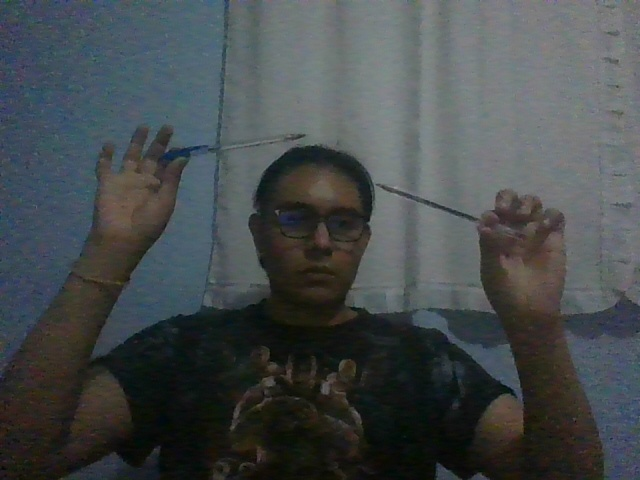pluma: (374, 183, 527, 241), (160, 133, 306, 160)
